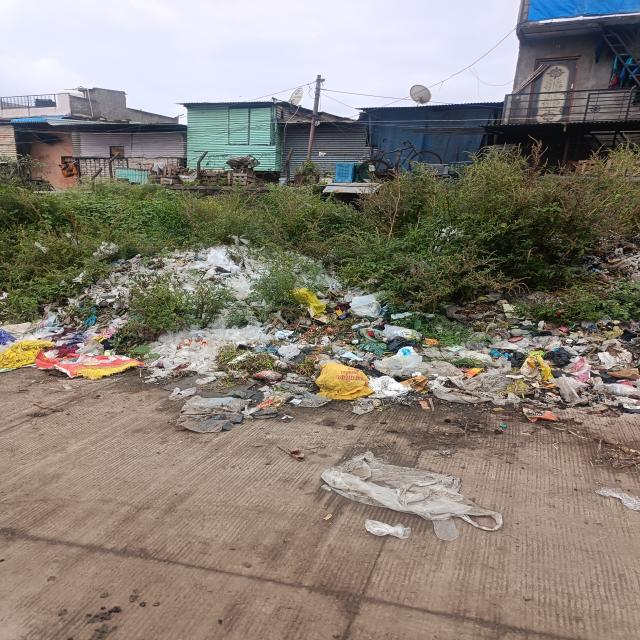garbage: (331, 294, 640, 421), (104, 247, 329, 395), (2, 279, 107, 387)
